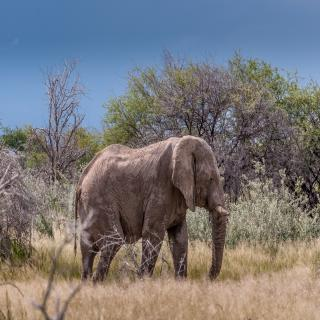Elephant: (70, 132, 230, 284)
